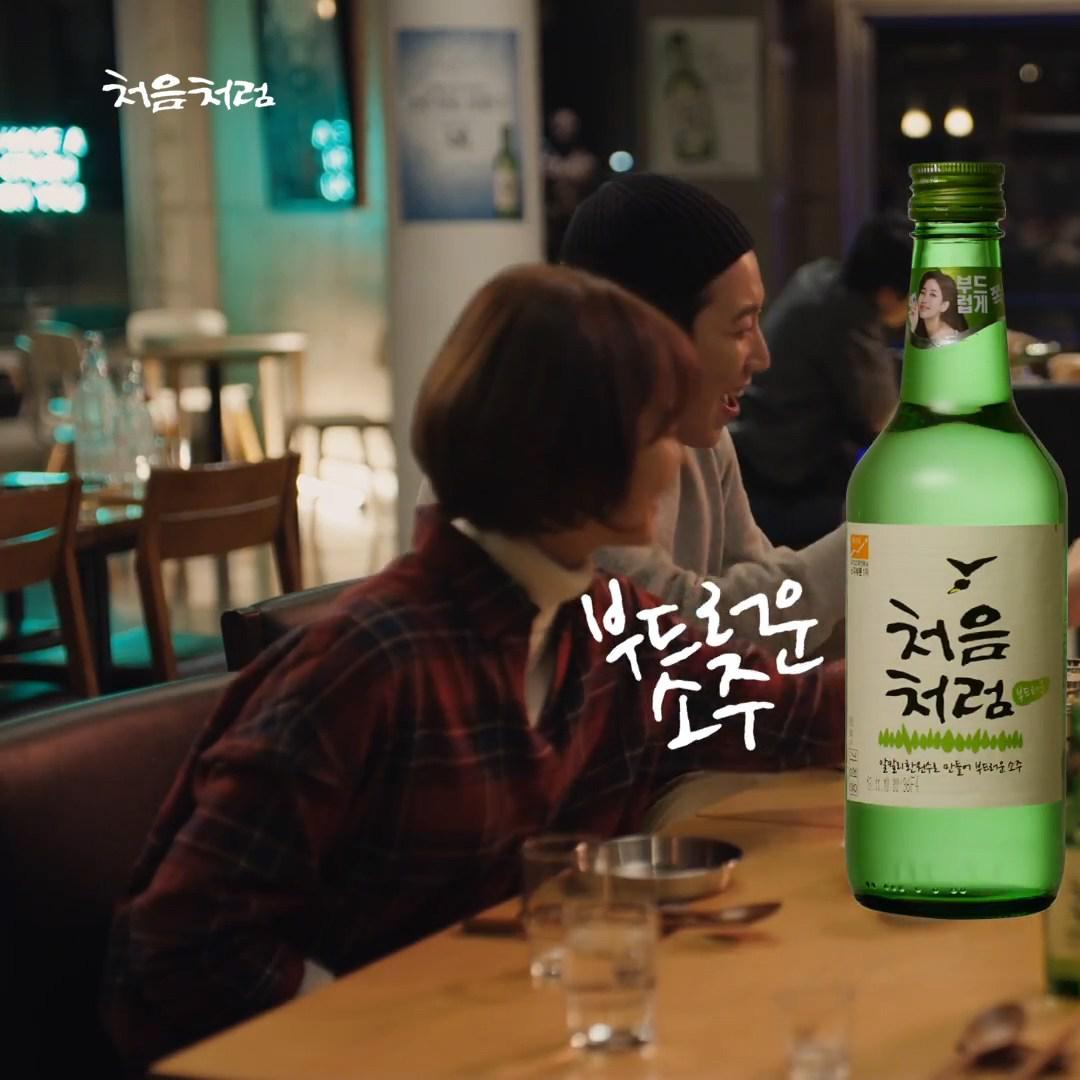soju: (838, 157, 1071, 932)
